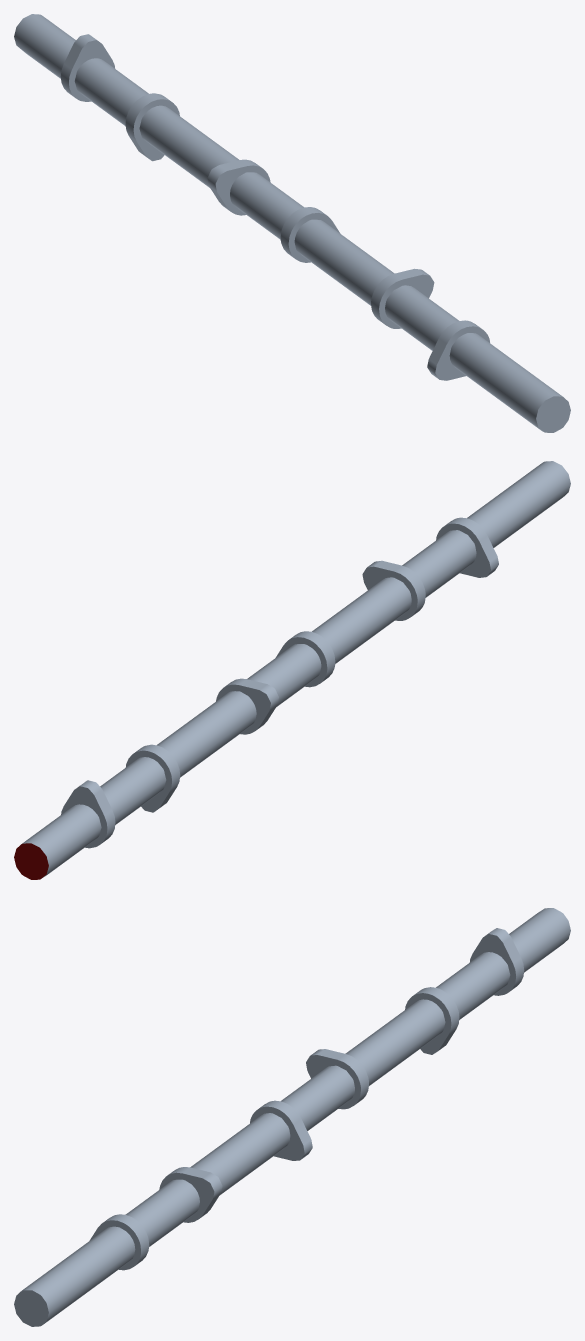
File: cam_shaft.obj
The picture shows the model from 3 angles, top to bottom: view 1: azimuth 30°, elevation 25°; view 2: azimuth 150°, elevation 25°; view 3: azimuth 330°, elevation 25°; orthographic projection.
Visible parts, largest first — view 1: 24; view 2: 24; view 3: 24.
Part boxes in pixels (x1,y1,x2,y2): 24: (14,17,570,432); 24: (26,461,570,877); 24: (14,908,565,1326).
Size of the model in its own units: 34.65 by 37.33 by 491.
